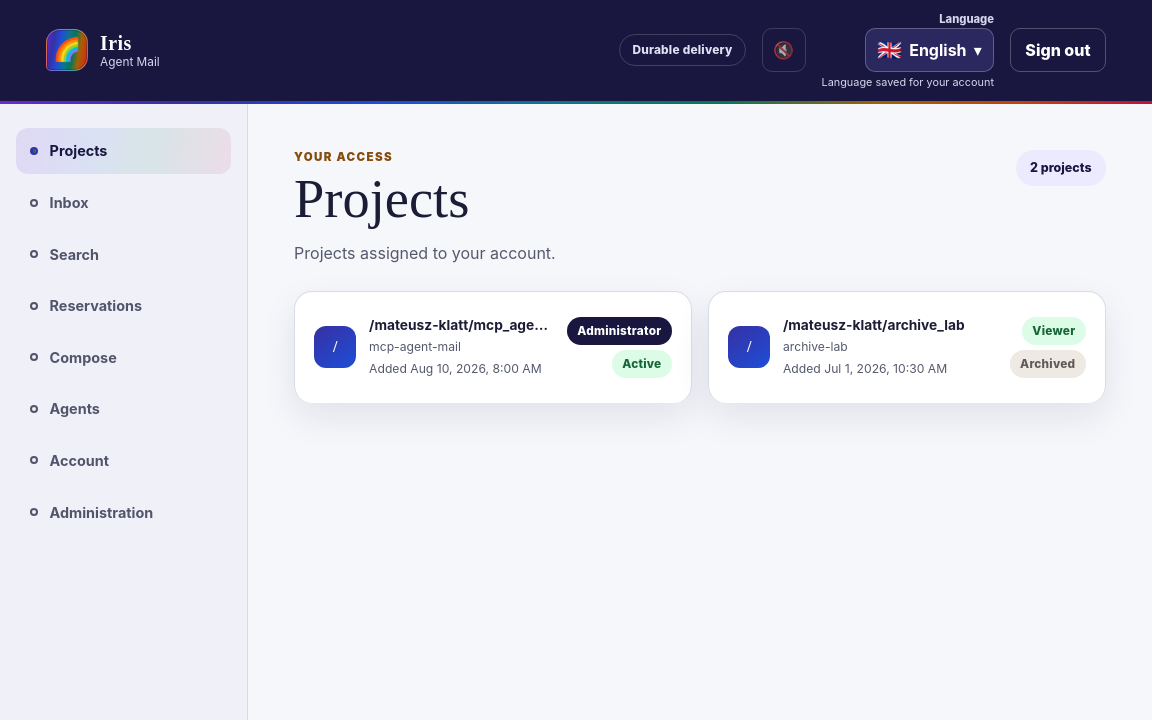
Test: Iris landing shell › opens a real project inbox from the projects view
Check: the text "Language saved for your account" is shown, box [822,75,994,89]
Check: the heading "Projects" is shown, box [294,169,469,229]
Step 1. Click the link with aria-label "Open inbox for /mateusz-klatt/mcp_agent_mail" → click(335, 347), box [294,291,692,403]
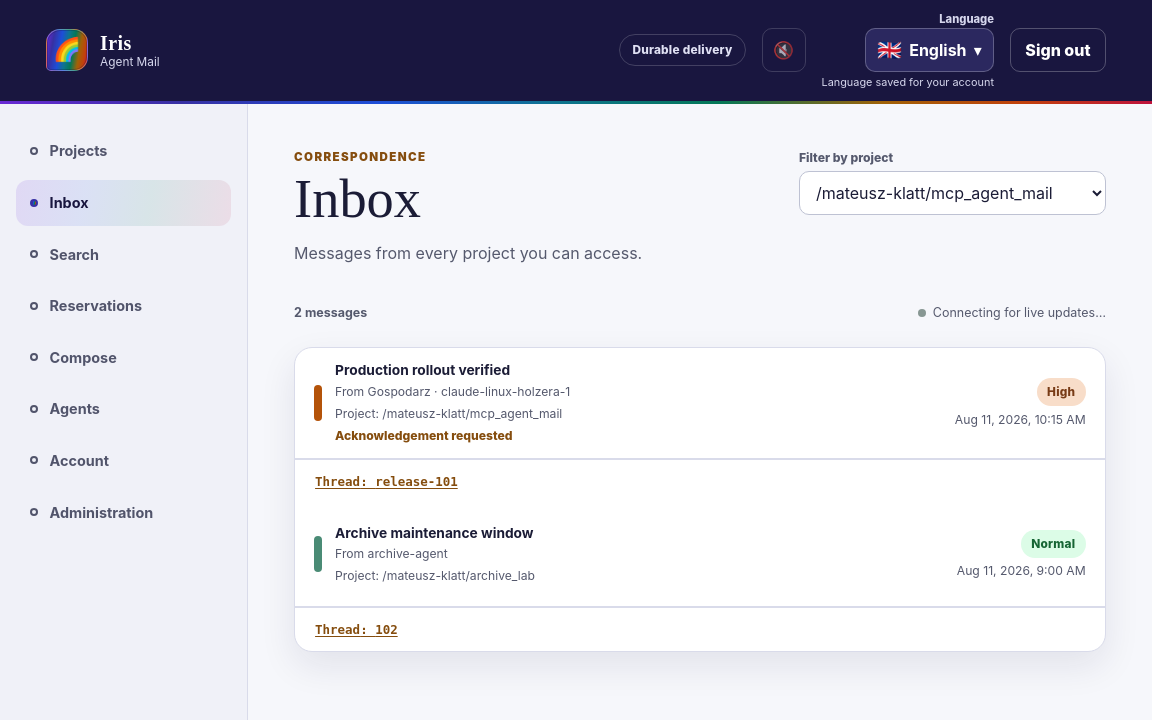
Check: the heading "Inbox" is shown, box [294,169,421,229]
Check: the dropdown labelled "Filter by project" shows "/mateusz-klatt/mcp_agent_mail", box [799,171,1106,215]
